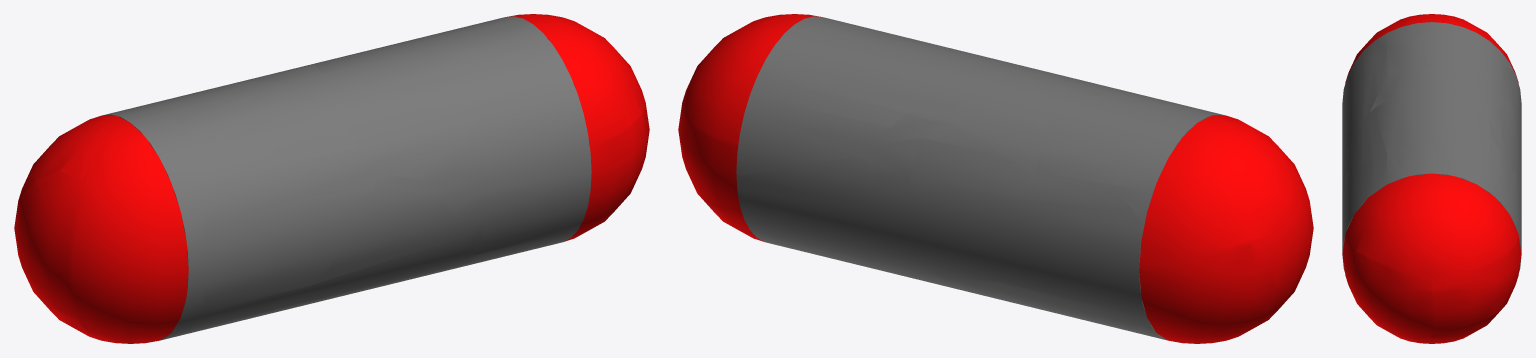
File: Player.fbx
The picture shows the model from 3 angles, left to right: view 1: azimuth 30°, elevation 25°; view 2: azimuth 150°, elevation 25°; view 3: azimuth 270°, elevation 25°; orthographic projection. The views are drawn at different scales.
Parts seen in each view (by area): view 1: Piece_12, Piece_3, Piece_2_2, Piece_2, Piece_11, Piece_1_3, Piece_13, Piece_3_2, Piece_10, Piece_0, Piece_3_3, Piece_0_2 (+4 smaller); view 2: Piece_8, Piece_5, Piece_6, Piece_4, Piece_0_2, Piece_1_2, Piece_0, Piece_1_3, Piece_2, Piece_9, Piece_3_2, Piece_13 (+6 smaller); view 3: Piece_1_3, Piece_2, Piece_3_3, Piece_8, Piece_0_3, Piece_0, Piece_12, Piece_3, Piece_13, Piece_9, Piece_1, Piece_6 (+8 smaller).
Boxes of the visible parts, bbox=[...] form: Piece_12: bbox=[204, 128, 377, 329]; Piece_3: bbox=[466, 22, 591, 265]; Piece_2_2: bbox=[68, 142, 188, 343]; Piece_2: bbox=[312, 46, 485, 181]; Piece_11: bbox=[245, 171, 474, 319]; Piece_1_3: bbox=[507, 14, 645, 156]; Piece_13: bbox=[102, 106, 207, 340]; Piece_3_2: bbox=[16, 166, 83, 319]; Piece_10: bbox=[427, 103, 489, 254]; Piece_0: bbox=[135, 84, 266, 147]; Piece_3_3: bbox=[564, 106, 649, 241]; Piece_0_2: bbox=[19, 115, 148, 198]; Piece_8: bbox=[736, 26, 906, 176]; Piece_5: bbox=[1000, 177, 1167, 340]; Piece_6: bbox=[908, 118, 1036, 303]; Piece_4: bbox=[736, 156, 938, 284]; Piece_0_2: bbox=[1139, 115, 1267, 264]; Piece_1_2: bbox=[1139, 246, 1291, 343]; Piece_0: bbox=[1036, 87, 1177, 186]; Piece_1_3: bbox=[680, 14, 820, 148]; Piece_2: bbox=[896, 35, 1043, 121]; Piece_9: bbox=[946, 70, 1049, 176]; Piece_3_2: bbox=[1249, 151, 1312, 294]; Piece_13: bbox=[1114, 104, 1225, 224]; Piece_1_3: bbox=[1344, 173, 1518, 288]; Piece_2: bbox=[1346, 93, 1490, 171]; Piece_3_3: bbox=[1342, 243, 1434, 342]; Piece_8: bbox=[1391, 131, 1521, 253]; Piece_0_3: bbox=[1431, 238, 1521, 337]; Piece_0: bbox=[1386, 35, 1505, 99]; Piece_12: bbox=[1342, 51, 1390, 165]; Piece_3: bbox=[1342, 154, 1436, 271]; Piece_13: bbox=[1342, 22, 1513, 107]; Piece_9: bbox=[1380, 78, 1505, 120]; Piece_1: bbox=[1370, 66, 1482, 111]; Piece_6: bbox=[1487, 100, 1521, 188].
Bounding box in the file's own units: 252 × 84 × 84.
